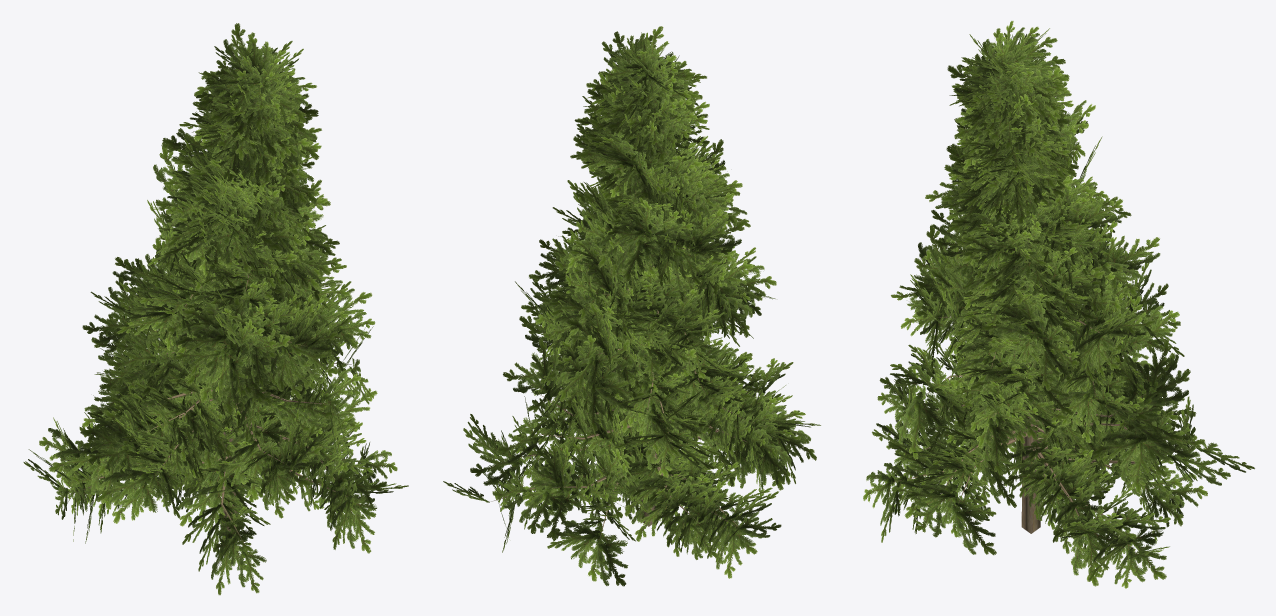
Rendered from ez-spruce-lod2.glb.
The picture shows the model from 3 angles, left to right: view 1: azimuth 30°, elevation 25°; view 2: azimuth 150°, elevation 25°; view 3: azimuth 270°, elevation 25°; orthographic projection. The views are drawn at different scales.
Visible parts, largest first — view 1: Leaves_LOD2, Branches_LOD2; view 2: Leaves_LOD2, Branches_LOD2; view 3: Leaves_LOD2, Branches_LOD2.
Part boxes in pixels (x1,y1,x2,y2): Leaves_LOD2: (23, 23, 408, 595); Branches_LOD2: (67, 215, 351, 545); Leaves_LOD2: (443, 26, 820, 586); Branches_LOD2: (491, 165, 756, 539); Leaves_LOD2: (863, 21, 1254, 588); Branches_LOD2: (891, 71, 1193, 553).
Bounding box in the file's own units: 38.8 × 56.92 × 38.57.
2 materials, 2 textured.
